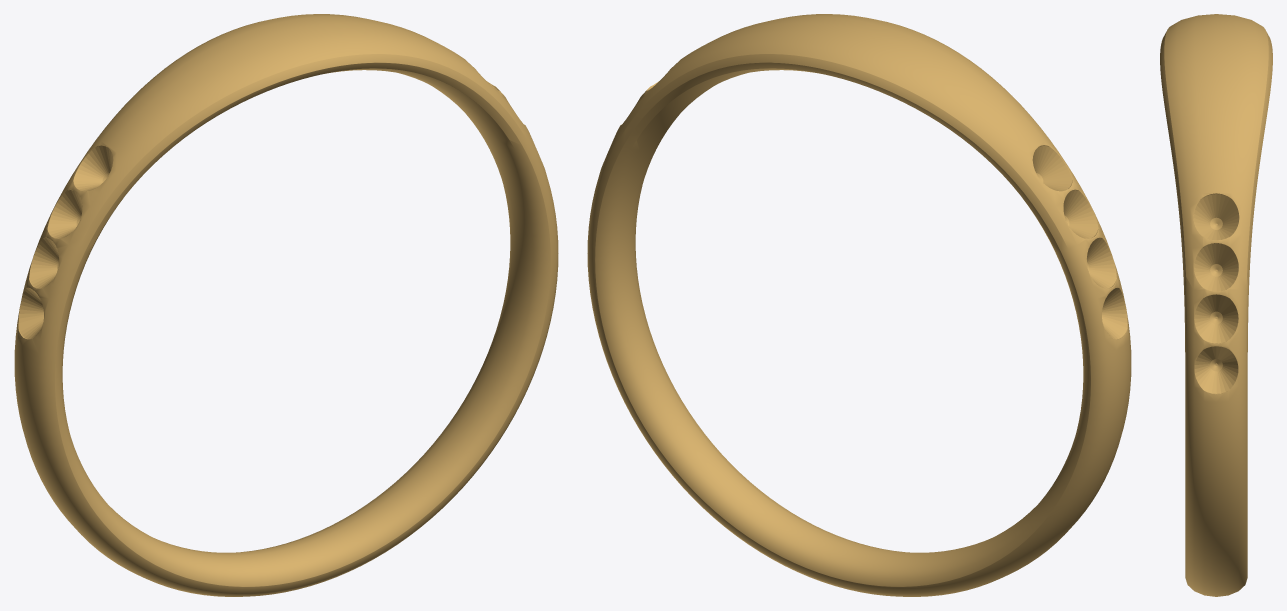
The model's file is reverse-tapered-bar-head.glb.
3 renders of one model, left to right at view 1: azimuth 30°, elevation 25°; view 2: azimuth 150°, elevation 25°; view 3: azimuth 270°, elevation 25°, orthographic. The views are drawn at different scales.
Visible parts, largest first — view 1: Band; view 2: Band; view 3: Band.
Part boxes in pixels (box(x1,y1,x2,y2)): Band: box(14, 14, 558, 596); Band: box(587, 14, 1131, 596); Band: box(1160, 14, 1272, 596).
Bounding box in the file's own units: 19.6 × 19.6 × 3.8.
